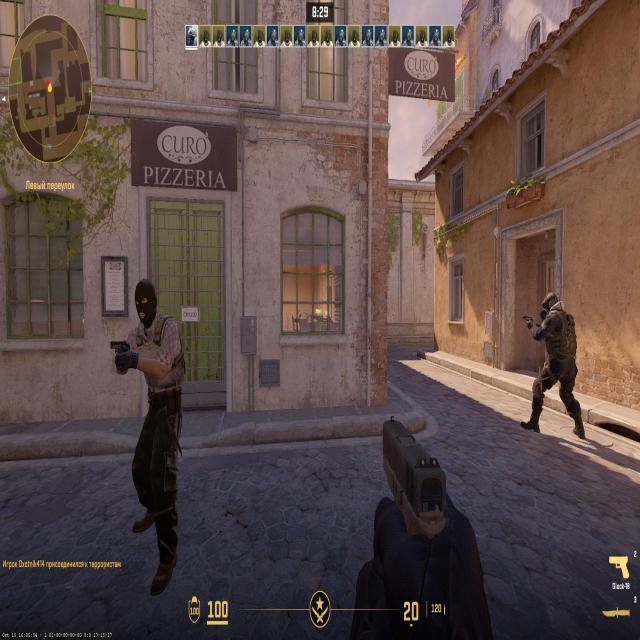CT: (541, 294, 572, 390)
CT_heat: (546, 294, 556, 316)
T: (134, 284, 178, 496)
T_heat: (142, 280, 158, 315)
